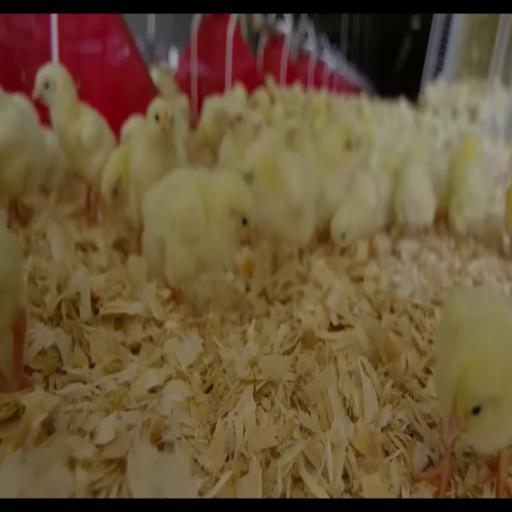chick: (418, 287, 511, 497), (142, 168, 252, 299), (33, 63, 116, 223), (242, 130, 318, 270), (128, 97, 178, 239), (0, 88, 47, 225), (0, 224, 31, 392), (330, 170, 393, 248), (313, 123, 354, 232), (447, 134, 490, 235), (394, 138, 436, 231), (188, 95, 228, 167), (218, 108, 264, 168), (42, 127, 69, 191), (101, 144, 129, 205), (150, 64, 178, 100), (248, 87, 272, 124), (12, 93, 39, 124), (120, 114, 145, 144), (504, 184, 511, 239)
